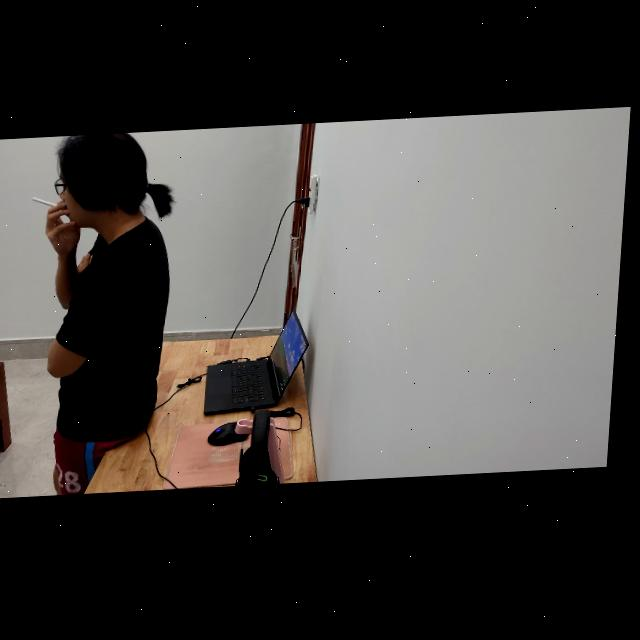cigarette: (35, 196, 62, 208)
